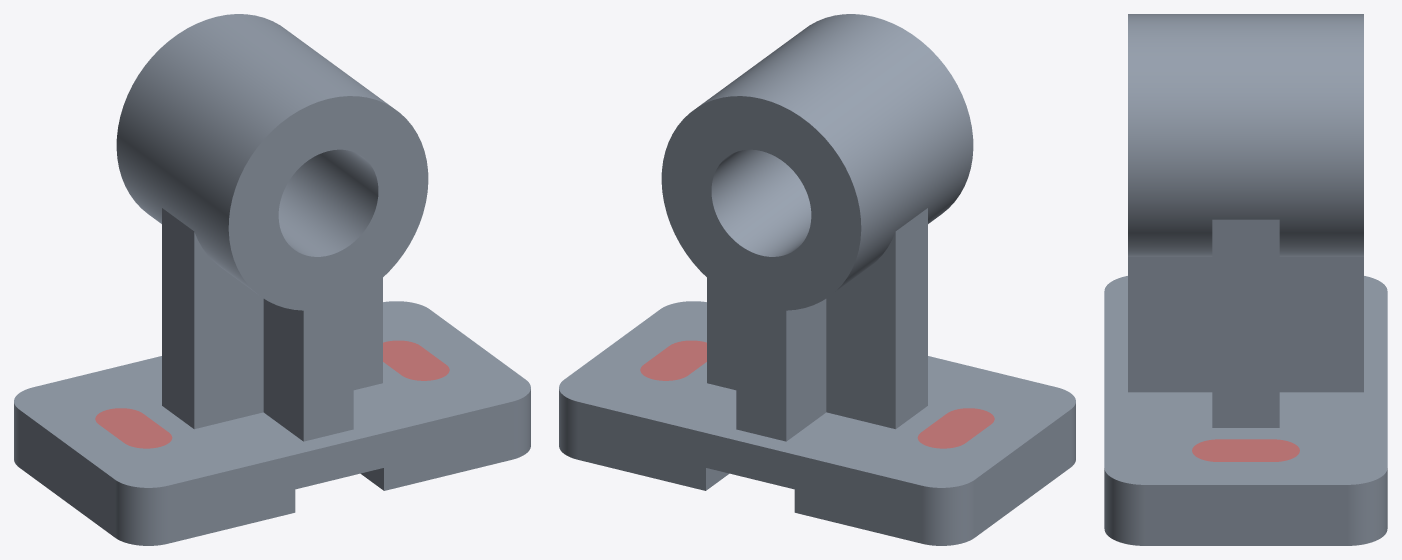
File: step_08.glb
3 renders of one model, left to right at view 1: azimuth 30°, elevation 25°; view 2: azimuth 150°, elevation 25°; view 3: azimuth 270°, elevation 25°, orthographic. The views are drawn at different scales.
Parts seen in each view (by area): view 1: part__pedestal bearing, removed__pedestal bearing; view 2: part__pedestal bearing, removed__pedestal bearing; view 3: part__pedestal bearing, removed__pedestal bearing.
Part boxes in pixels (x1,y1,x2,y2): part__pedestal bearing: (14,14,530,545); removed__pedestal bearing: (95,340,449,448); part__pedestal bearing: (559,14,1075,545); removed__pedestal bearing: (640,340,994,448); part__pedestal bearing: (1104,14,1387,545); removed__pedestal bearing: (1192,439,1299,461).
Bounding box in the file's own units: 74 × 68 × 42.
